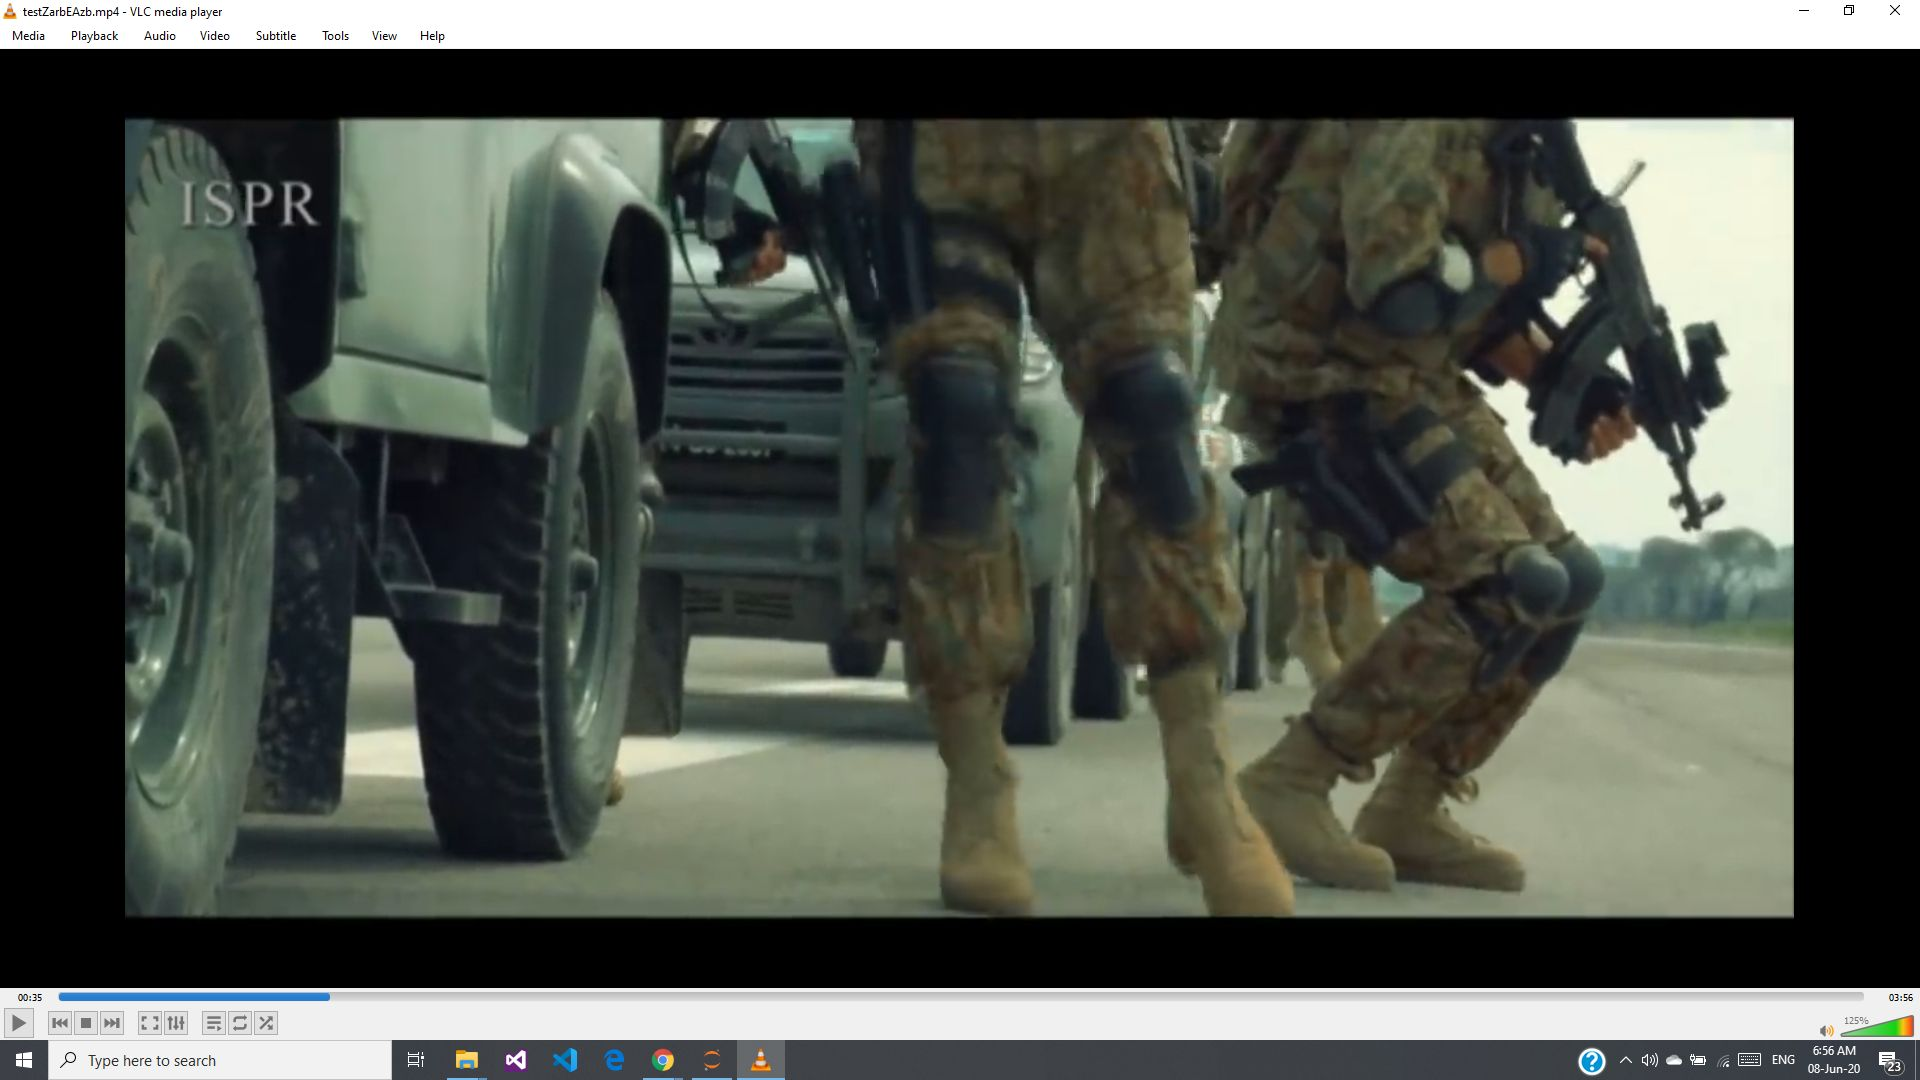gun: (1443, 135, 1764, 572), (624, 127, 919, 356)
uniform: (802, 129, 1279, 872), (1222, 119, 1611, 889)
